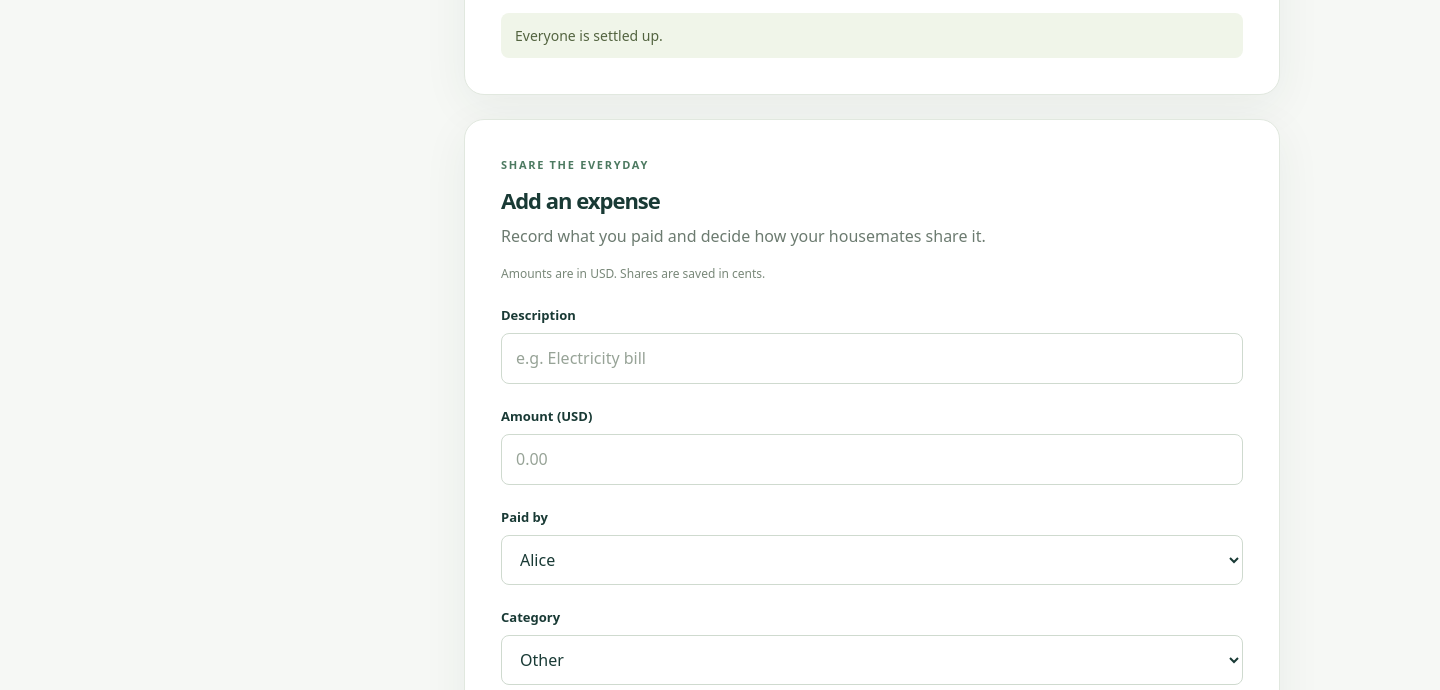
household balance view › refreshes after an expense is saved and clears data when switching households
The image size is (1440, 690).
(page scrolled)
Expected: the text "Everyone is settled up." is shown, [501,13,1243,58]
Type "Internet bill" into the field labelled "Description" at (872,359), box [501,333,1243,384]
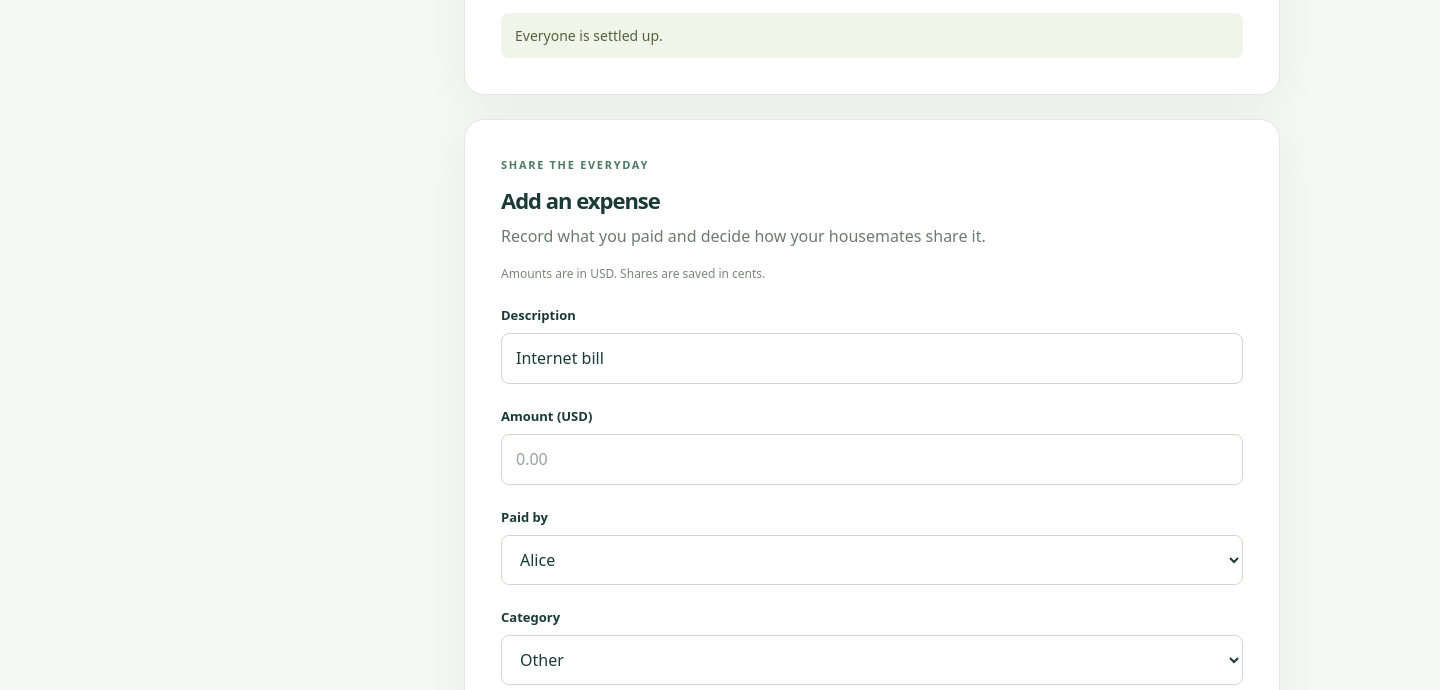
Type "3.00" into the field labelled "Amount (USD)" at (872,460), box [501,434,1243,485]
(page scrolled)
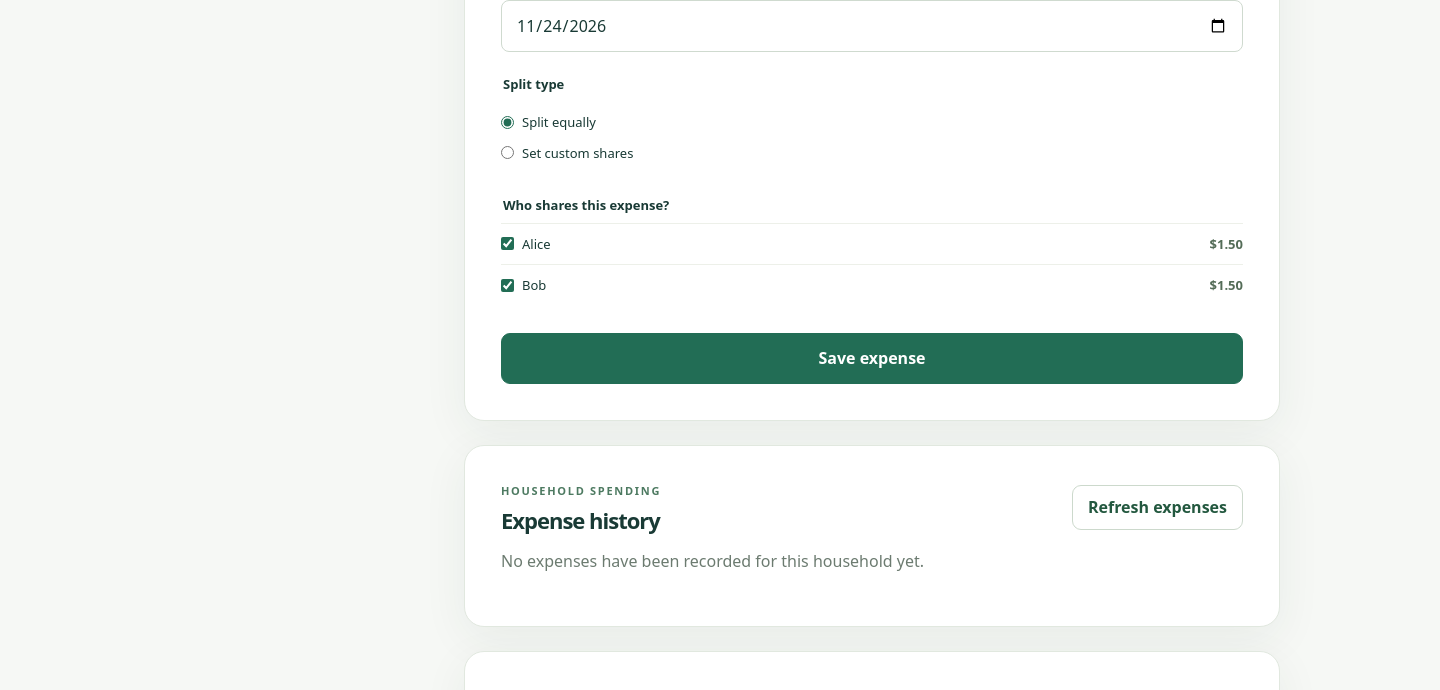
Click the button "Save expense" at (872,359), box [501,333,1243,384]
(page scrolled)
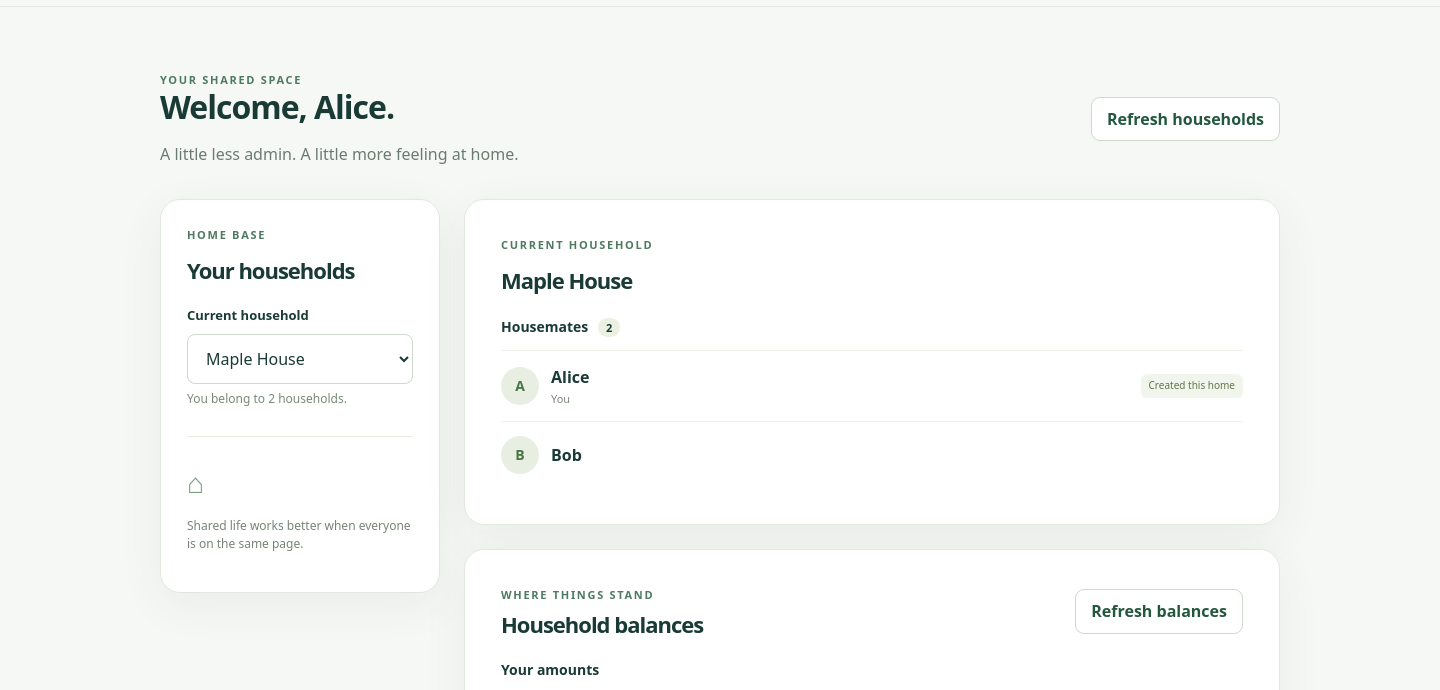
Select "Cedar House" in the dropdown labelled "Current household" at (300,359), box [187,334,413,384]
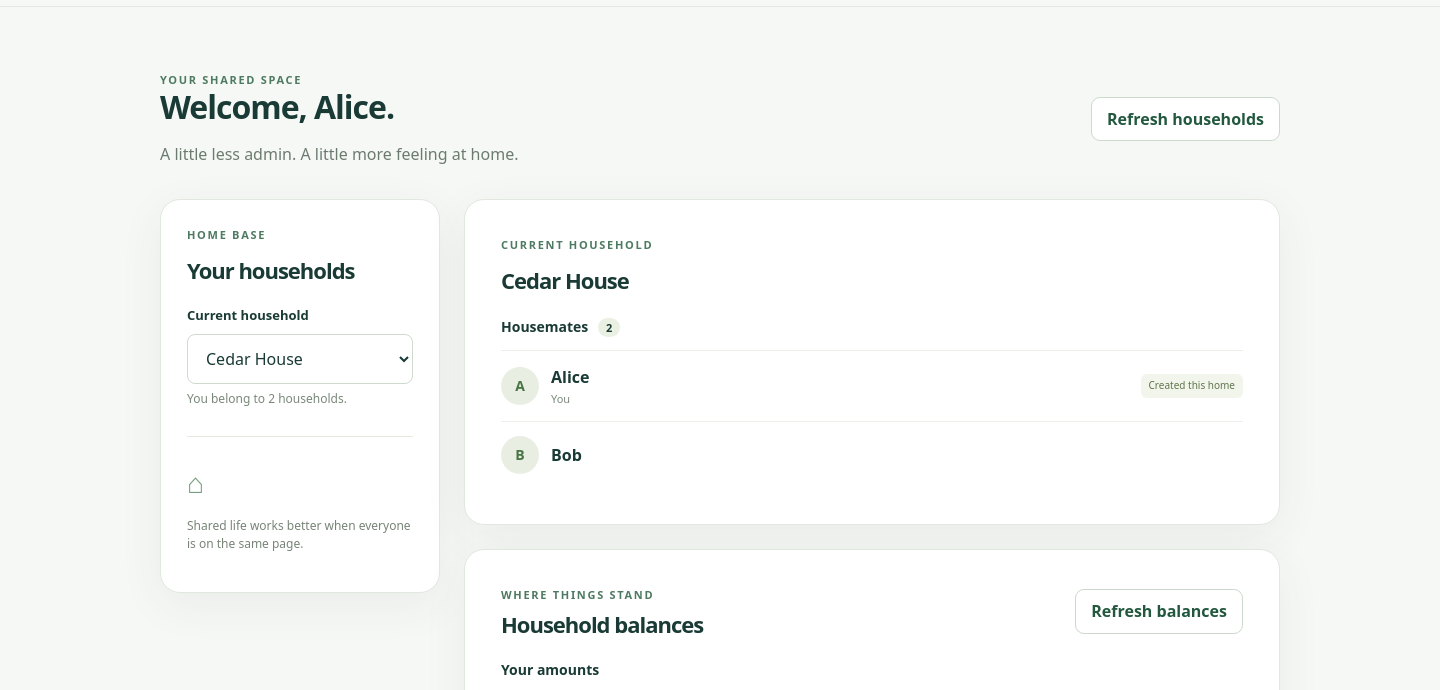
Expected: the heading "Cedar House" is shown, [501,265,629,295]
